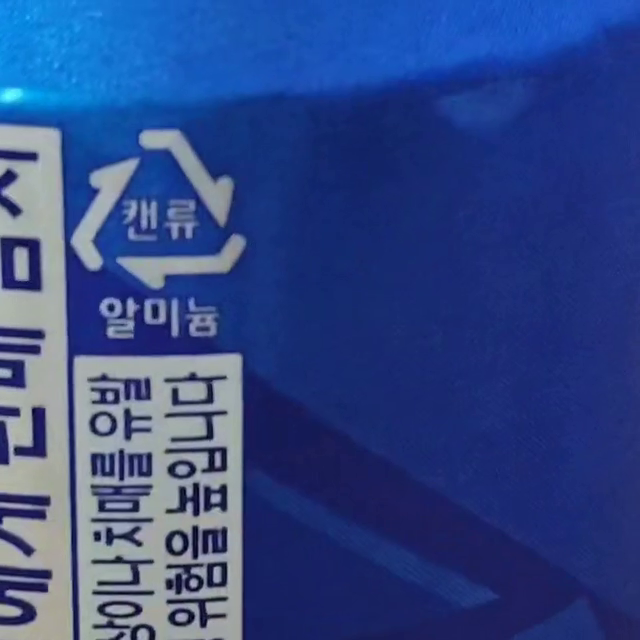Can: (71, 131, 248, 289)
